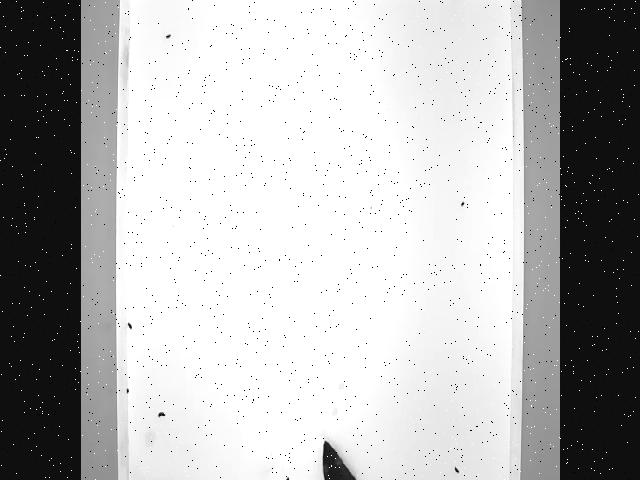Tikus: (315, 441, 425, 480)
